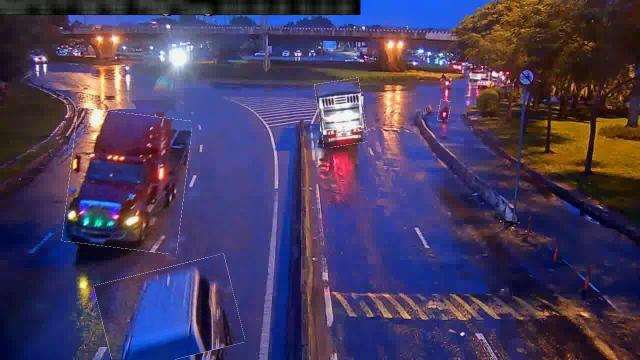Bike: (438, 100, 450, 122)
Car: (98, 261, 242, 359)
Truck: (65, 110, 188, 252), (316, 80, 366, 146)
